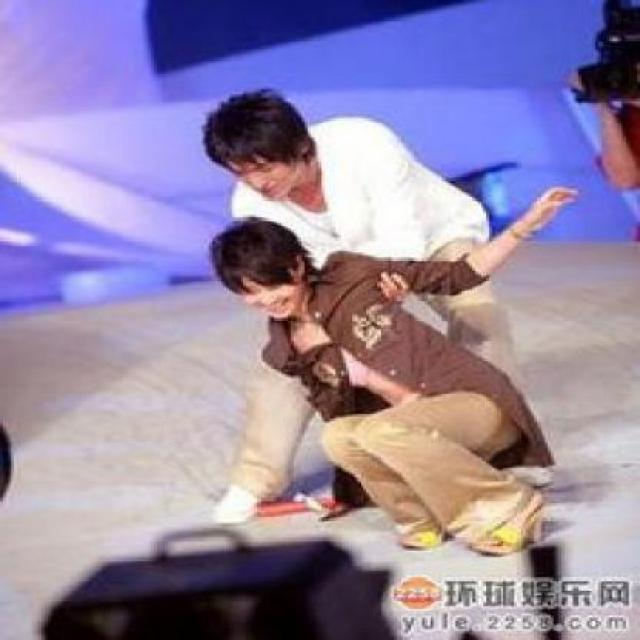fall: (218, 145, 562, 564)
